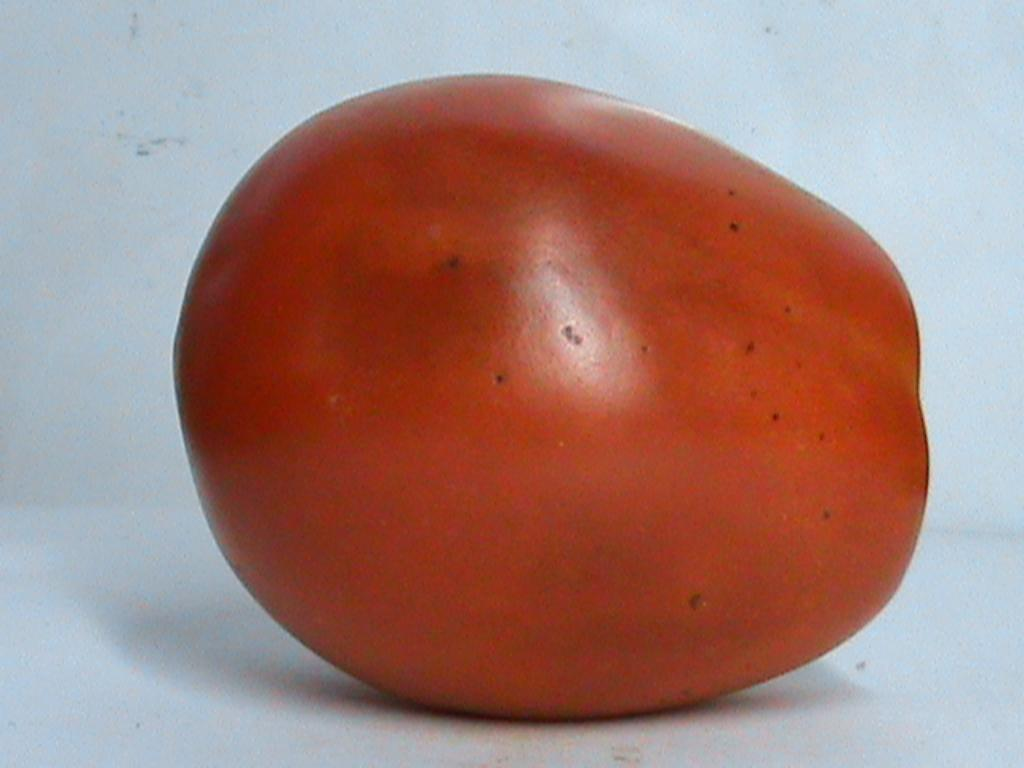tomato: (176, 78, 926, 715)
